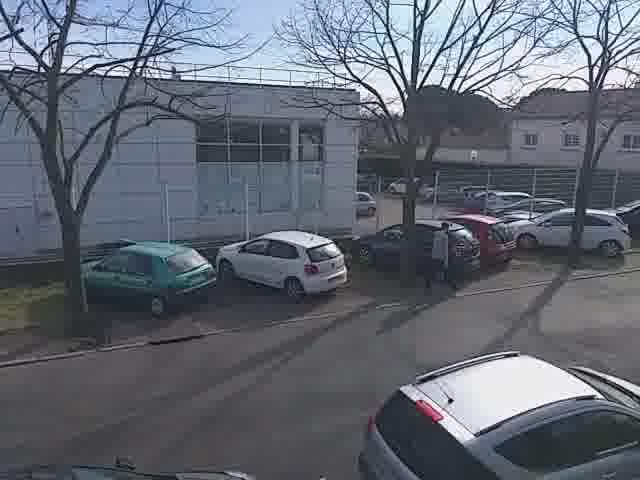persona: (423, 213, 461, 298)
